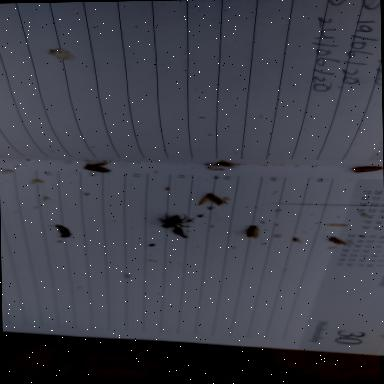pbw: (197, 192, 229, 206), (82, 161, 112, 174), (236, 225, 258, 240), (352, 166, 384, 174), (329, 237, 349, 246)
